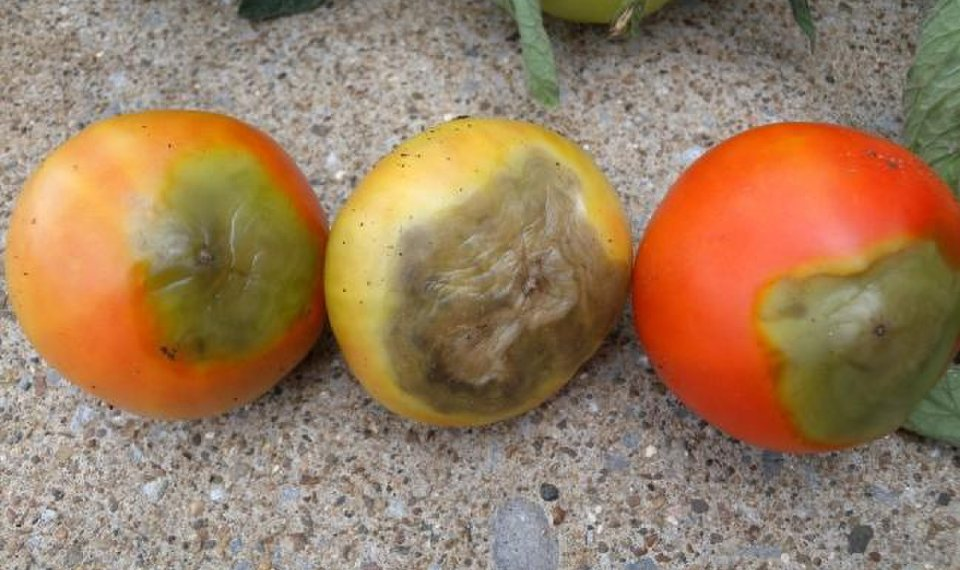blossom_rotw: (122, 141, 329, 380)
